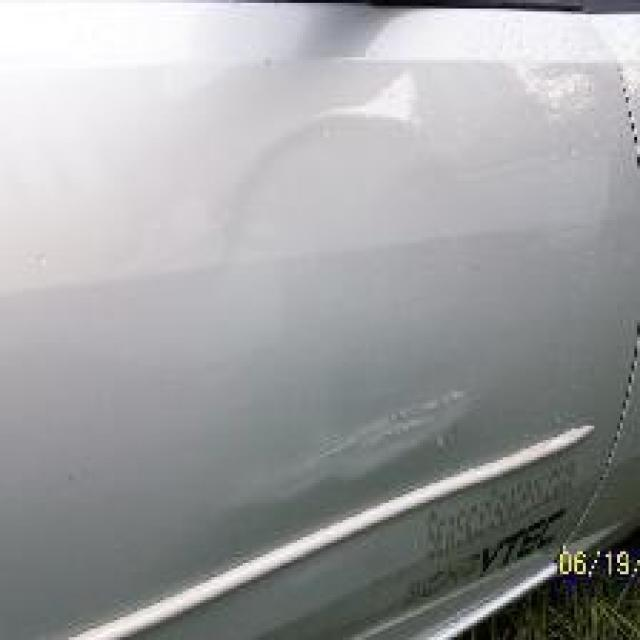damaged: (137, 66, 492, 488)
